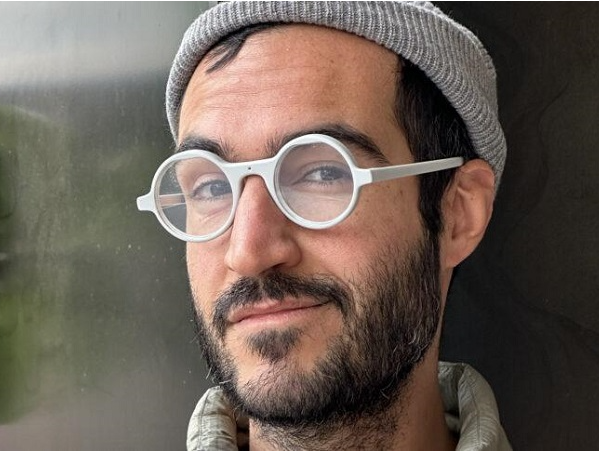glass: (130, 128, 468, 244)
mouth: (194, 287, 356, 347)
